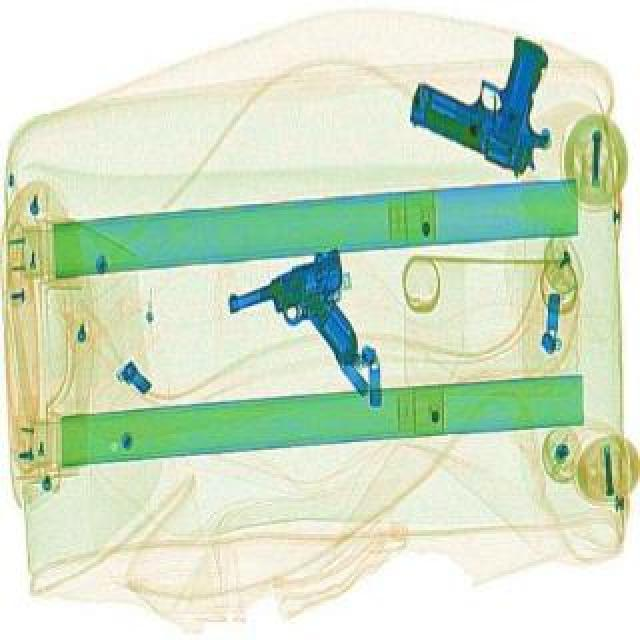gun: (396, 6, 592, 178), (216, 246, 376, 390)
